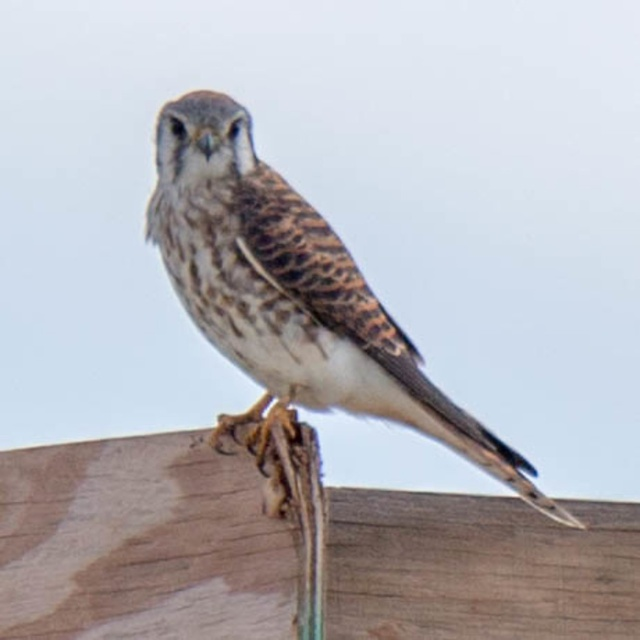Sparrow: (138, 86, 582, 528)
